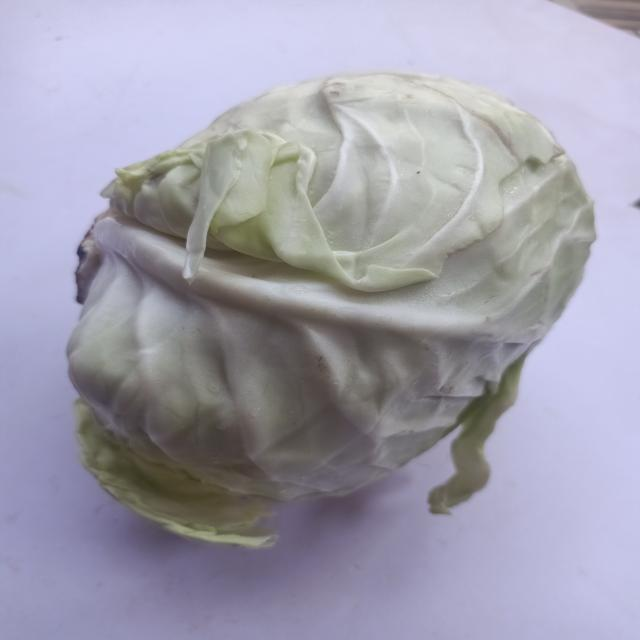Cabbage: (32, 50, 614, 556)
